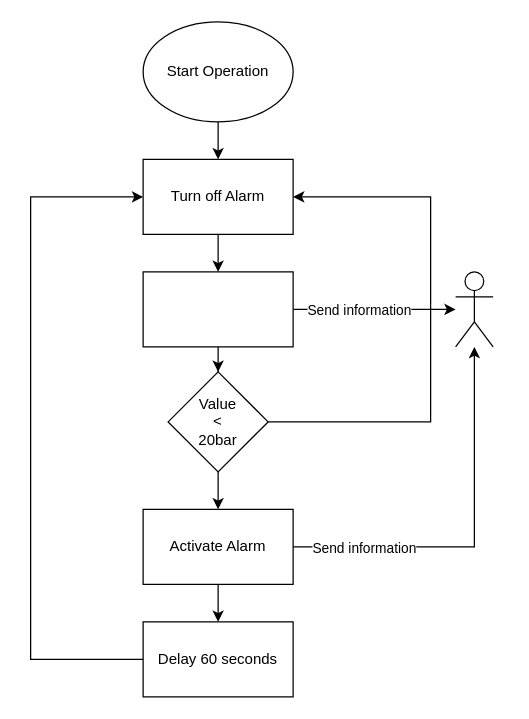
Some shapes in this 529 by 719 pixel diagram are drawn without their labels. The box of each missing label's shape, as (x1, y1, x2, y2) in pixels:
Black Box (optional): (454, 271, 493, 347)
Check pressure: (142, 271, 293, 347)
